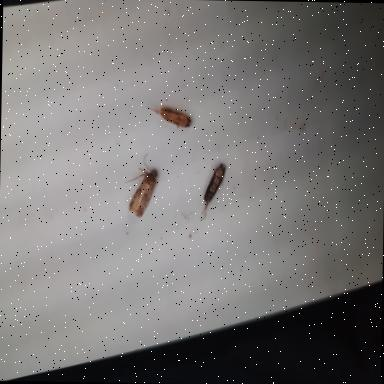pbw: (124, 154, 160, 218), (200, 165, 225, 222), (146, 107, 192, 128)
